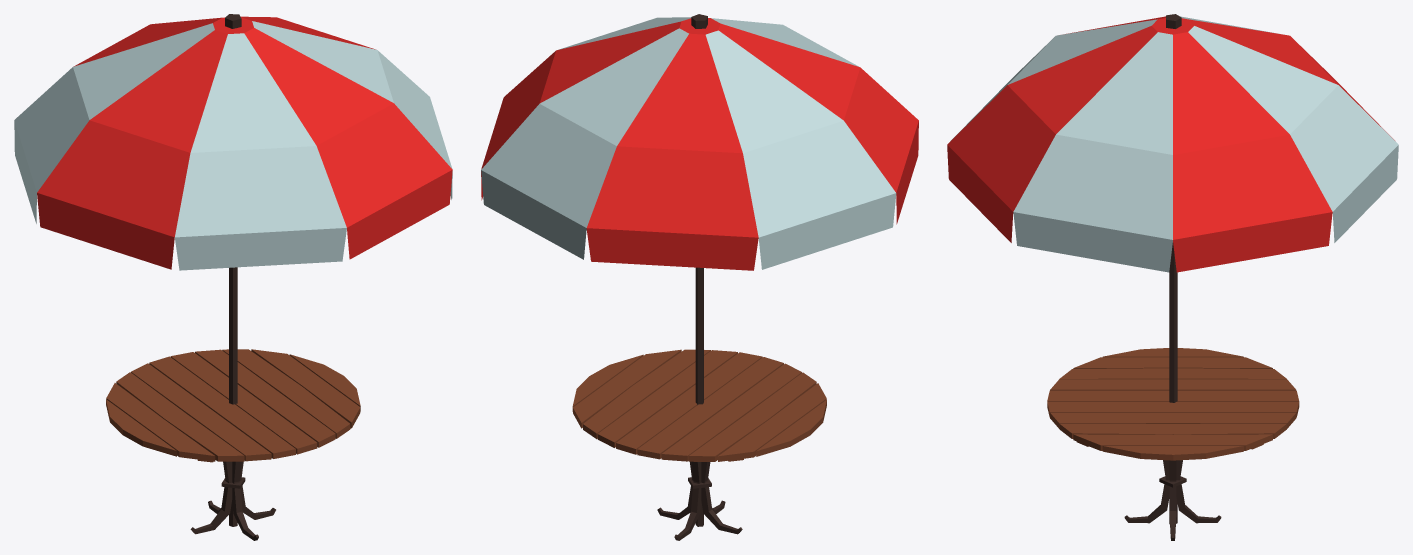
Rendered from village_pack_table_2.glb.
3 views of the same model, side by side, from view 1: azimuth 30°, elevation 25°; view 2: azimuth 150°, elevation 25°; view 3: azimuth 270°, elevation 25° (orthographic).
Parts seen in each view (by area): view 1: table 2_cloth 1_0; view 2: table 2_cloth 1_0; view 3: table 2_cloth 1_0.
Boxes of the visible parts, box(x1,y1,x2,y2) form: table 2_cloth 1_0: box(14, 14, 452, 540); table 2_cloth 1_0: box(481, 14, 918, 540); table 2_cloth 1_0: box(947, 14, 1398, 540).
Bounding box in the file's own units: 1.97 × 2.43 × 1.97.
